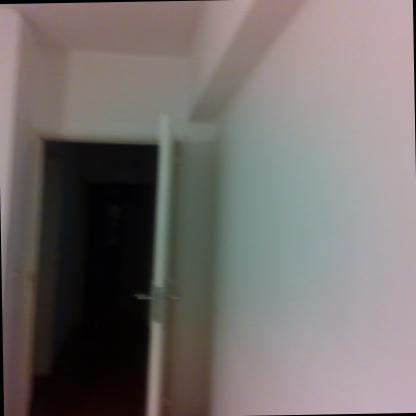open: (7, 117, 221, 416)
